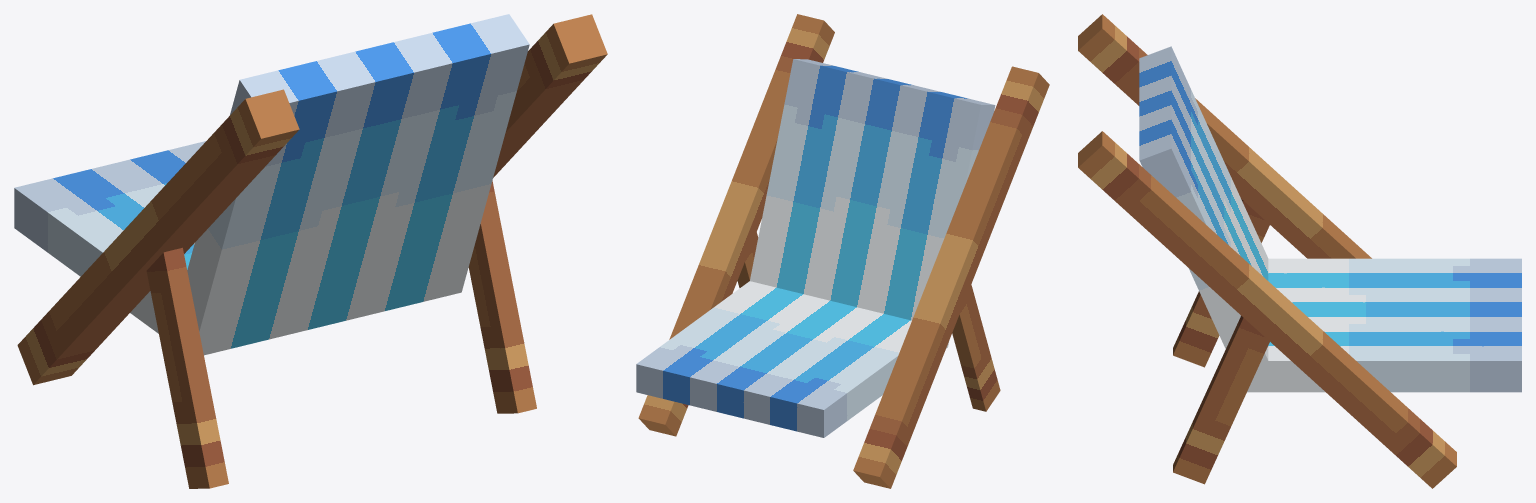
The model's file is summer-chair.gltf.
The picture shows the model from 3 angles, left to right: view 1: azimuth 30°, elevation 25°; view 2: azimuth 150°, elevation 25°; view 3: azimuth 270°, elevation 25°; orthographic projection. The views are drawn at different scales.
Parts seen in each view (by area): view 1: cube (×6); view 2: cube (×6); view 3: cube (×6).
Part boxes in pixels (x1,y1,x2,y2): cube (×6): (14,14,607,488); cube (×6): (636,14,1049,488); cube (×6): (1078,14,1521,488).
Bounding box in the file's own units: 0.8438 × 1.03 × 1.2.
Materials: 1 (1 with a texture image).
